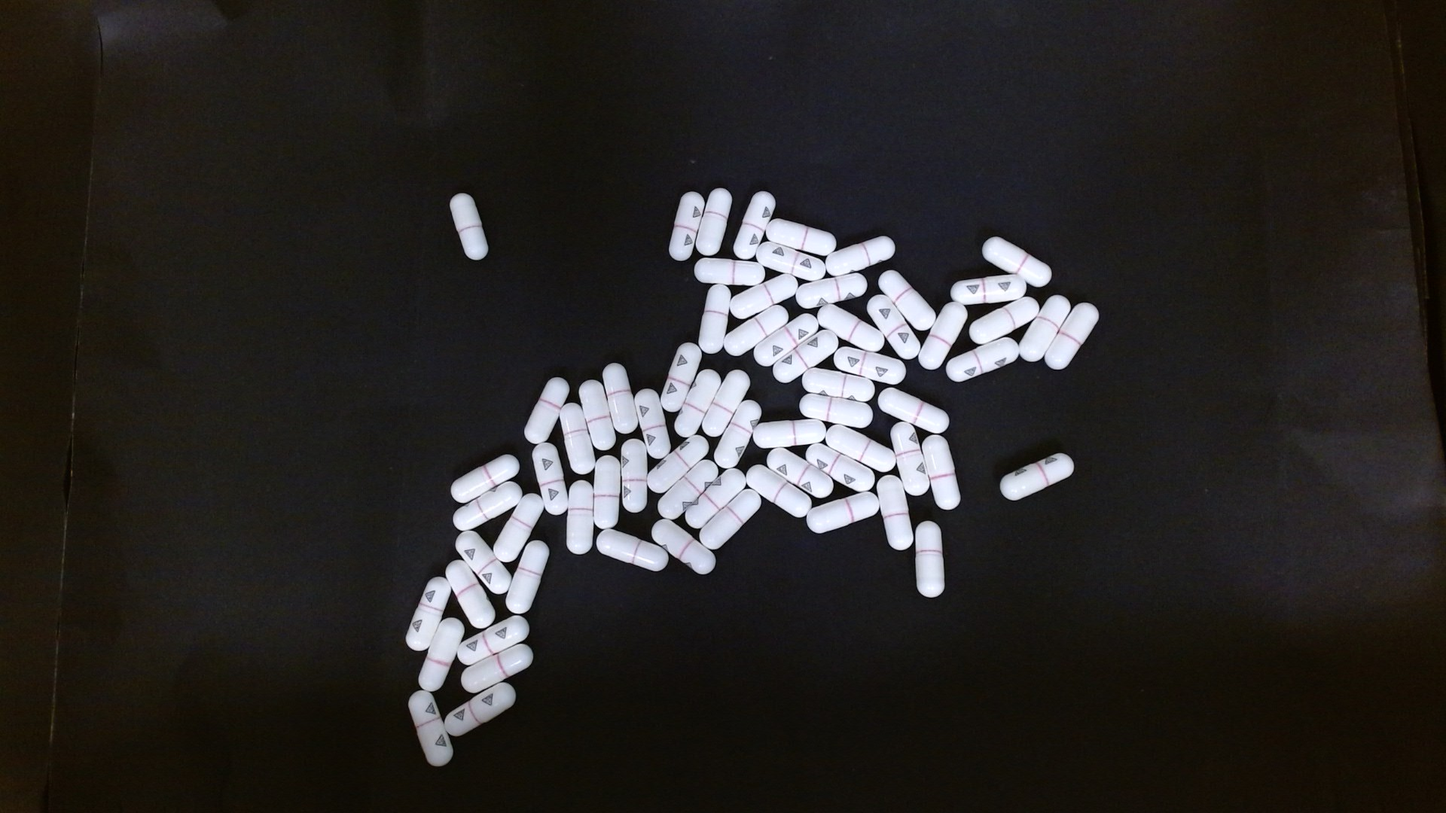Capsule: (749, 311, 820, 374), (454, 613, 532, 668), (771, 325, 840, 387), (457, 639, 535, 693), (443, 681, 517, 737), (1017, 296, 1076, 365), (646, 433, 711, 495), (745, 462, 815, 519), (407, 688, 456, 769), (697, 488, 762, 549), (866, 294, 923, 363), (816, 303, 886, 359), (684, 466, 746, 529), (492, 491, 545, 564), (765, 446, 835, 501), (449, 451, 522, 503), (655, 458, 717, 519), (1044, 302, 1098, 372), (982, 235, 1053, 288), (416, 616, 465, 692), (822, 422, 895, 473), (877, 386, 950, 437), (969, 295, 1042, 346), (445, 555, 495, 629), (804, 441, 875, 493), (1002, 452, 1077, 501), (700, 367, 751, 439), (877, 269, 936, 331), (917, 302, 970, 371), (650, 519, 715, 575), (452, 480, 522, 532), (712, 398, 763, 469), (455, 528, 509, 595), (948, 336, 1023, 384), (723, 303, 789, 357), (406, 575, 452, 652), (521, 375, 570, 446), (674, 367, 723, 438), (727, 273, 798, 321), (506, 539, 550, 614), (595, 528, 666, 573), (920, 431, 959, 510), (804, 366, 881, 406), (831, 344, 905, 385), (763, 217, 836, 258), (755, 240, 826, 282), (531, 442, 570, 518), (891, 421, 930, 497), (807, 492, 877, 534), (825, 235, 895, 277), (558, 402, 597, 476), (877, 473, 914, 550), (447, 194, 488, 263), (660, 344, 700, 412), (735, 191, 776, 257), (634, 388, 671, 461), (578, 379, 616, 450), (800, 392, 871, 430), (795, 272, 868, 308), (602, 363, 639, 434), (950, 273, 1029, 304), (697, 283, 731, 355), (668, 191, 703, 260), (697, 187, 732, 255), (751, 418, 826, 449), (914, 520, 944, 597), (694, 257, 765, 289), (565, 480, 593, 555), (593, 455, 620, 529), (620, 440, 648, 510)
